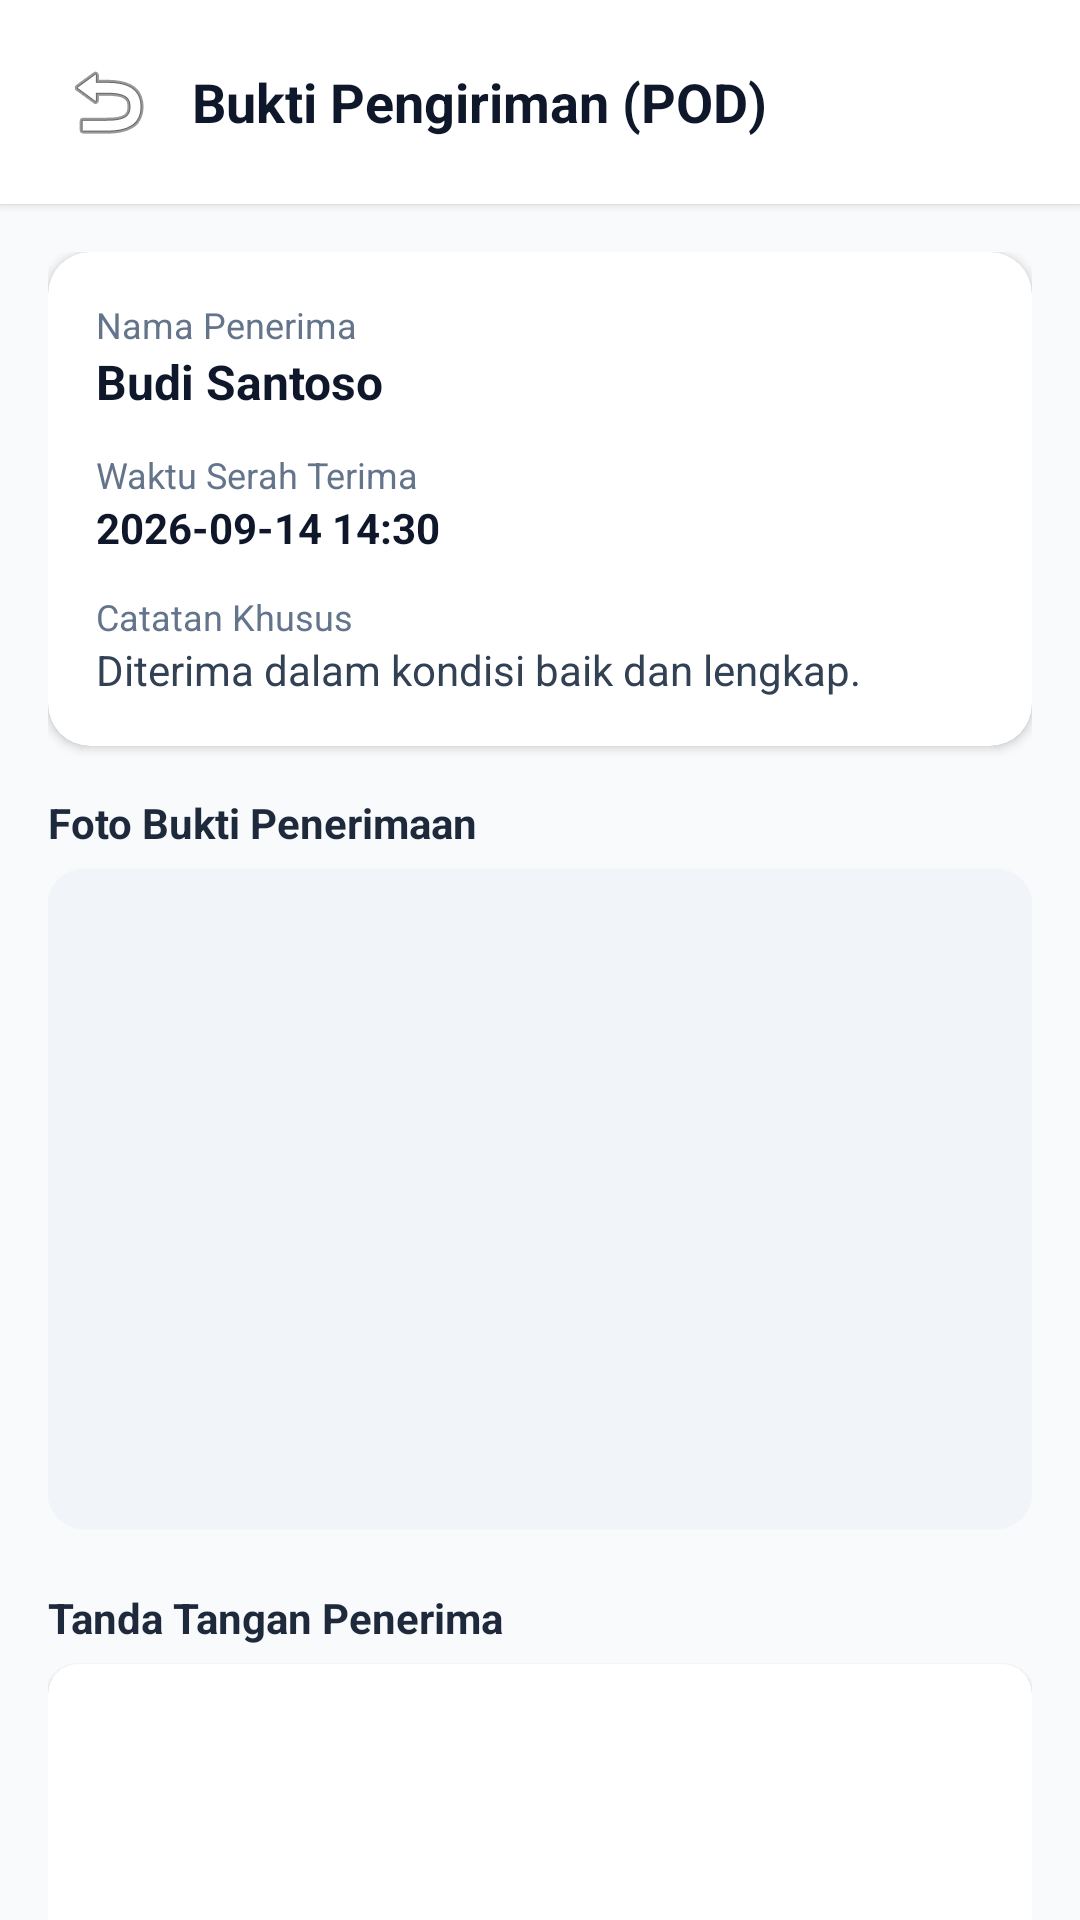

Locate icon controls on the screen. Image size 1080 x 1920, boxes as (x1, y1, x2, y2).
Kembali: (75, 71, 144, 134)
